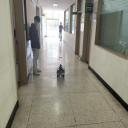cart: (57, 66, 65, 78)
